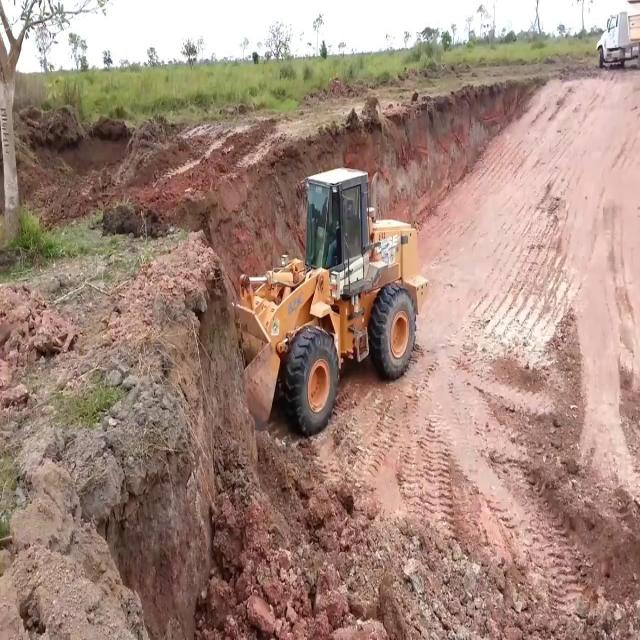Dump Truck: (597, 13, 639, 68)
Loader: (231, 166, 429, 436)
